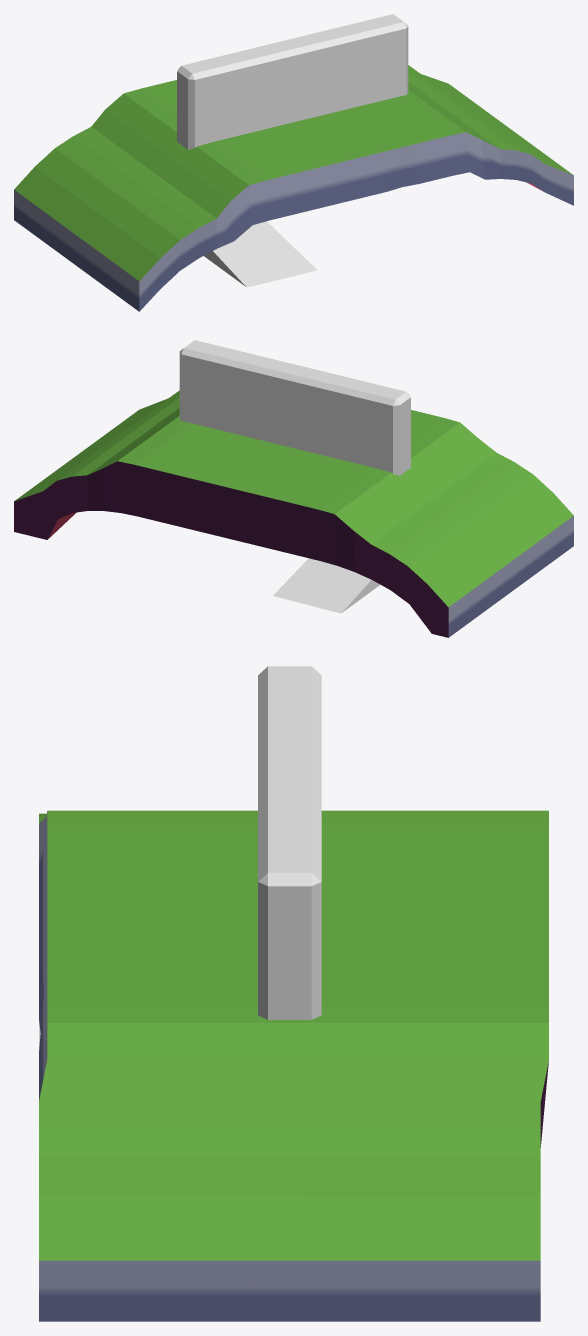
File: paddle.fbx
3 renders of one model, top to bottom at view 1: azimuth 30°, elevation 25°; view 2: azimuth 150°, elevation 25°; view 3: azimuth 270°, elevation 25°, orthographic. The views are drawn at different scales.
Parts seen in each view (by area): view 1: Paddle, Brick, Cube; view 2: Paddle, Brick, Cube; view 3: Paddle, Brick.
Boxes of the visible parts, left/top/right/bottom form: Paddle: left=14, top=65, right=573, bottom=311; Brick: left=177, top=14, right=408, bottom=149; Cube: left=204, top=221, right=317, bottom=287; Paddle: left=14, top=390, right=573, bottom=637; Brick: left=179, top=340, right=410, bottom=475; Cube: left=273, top=558, right=380, bottom=613; Paddle: left=39, top=810, right=548, bottom=1321; Brick: left=258, top=666, right=321, bottom=1019.
Size of the model in its own units: 400 by 151 by 203.
